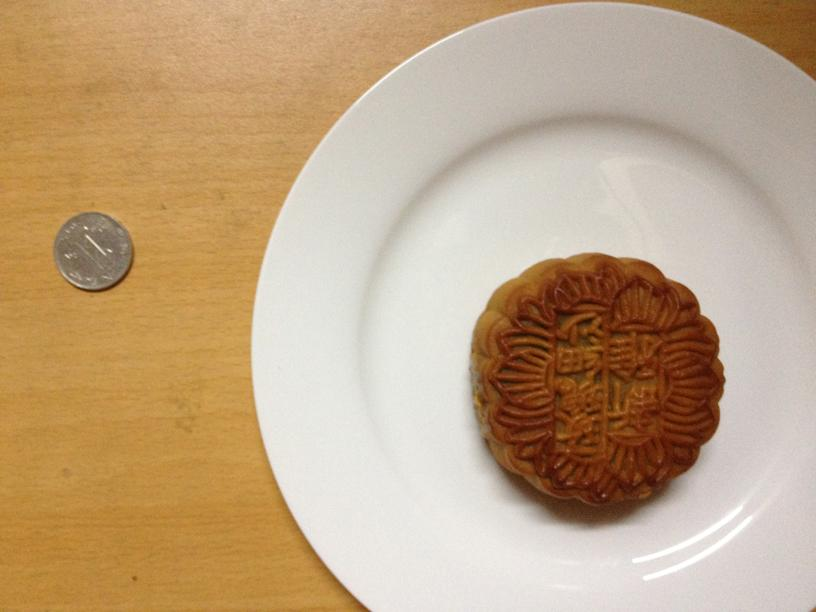coin: (51, 213, 132, 290)
mooncake: (463, 249, 722, 506)
